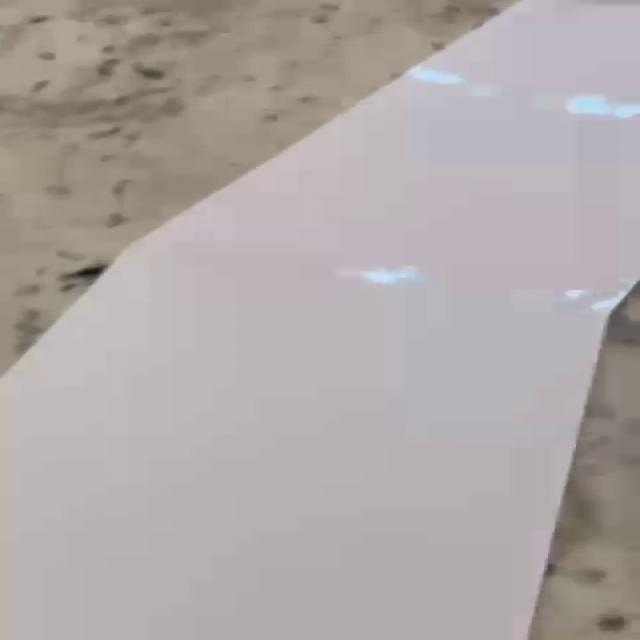road: (0, 0, 640, 640)
